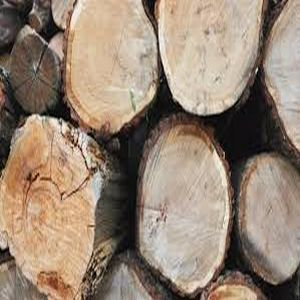log: (1, 112, 112, 300), (132, 117, 236, 295), (63, 1, 159, 133), (158, 3, 262, 119), (235, 148, 300, 285), (8, 30, 63, 114)
